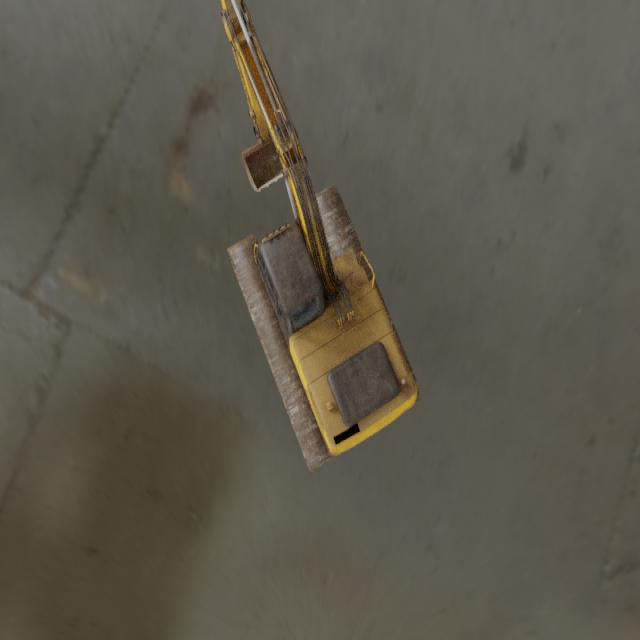excavator: (220, 0, 421, 473)
